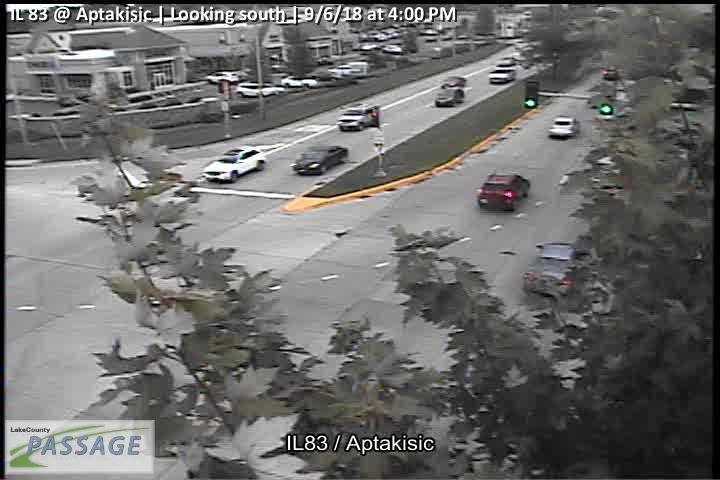SUV: (336, 105, 372, 133)
Sedan: (523, 241, 575, 296), (202, 148, 266, 183), (478, 172, 531, 213), (291, 144, 349, 175), (548, 117, 577, 138), (435, 88, 464, 107), (440, 75, 467, 89)
